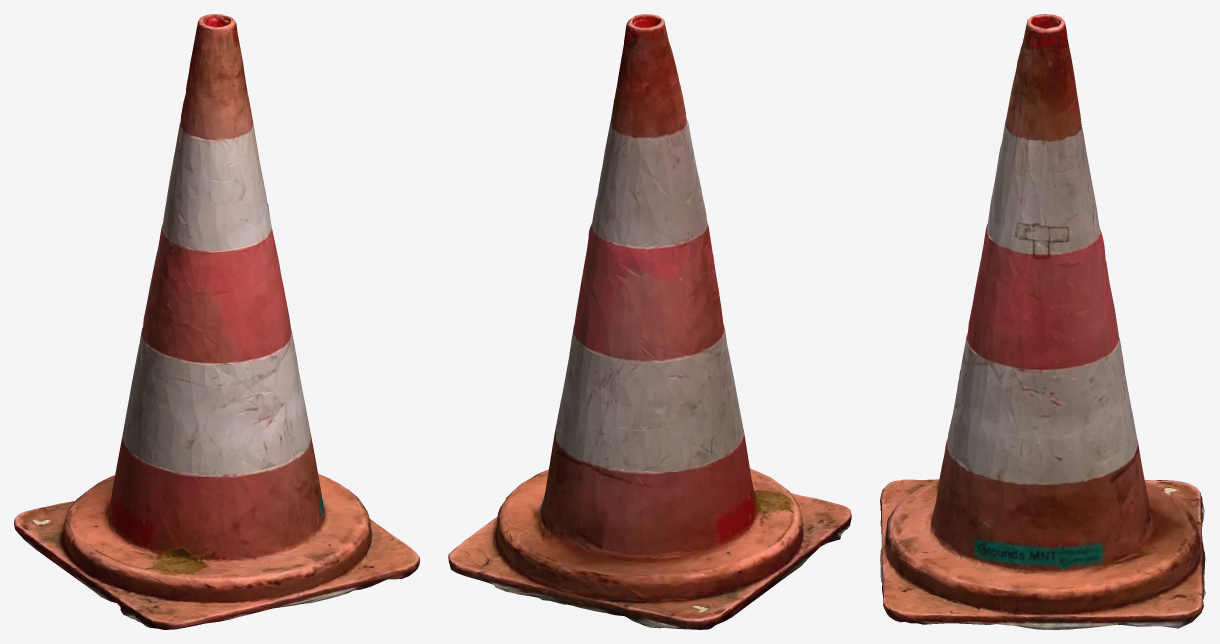
3 views of the same model, side by side, from view 1: azimuth 30°, elevation 25°; view 2: azimuth 150°, elevation 25°; view 3: azimuth 270°, elevation 25° (orthographic). The views are drawn at different scales.
Bounding box in the file's own units: 0.4668 × 0.8476 × 0.4575.
1 material, 1 textured.
